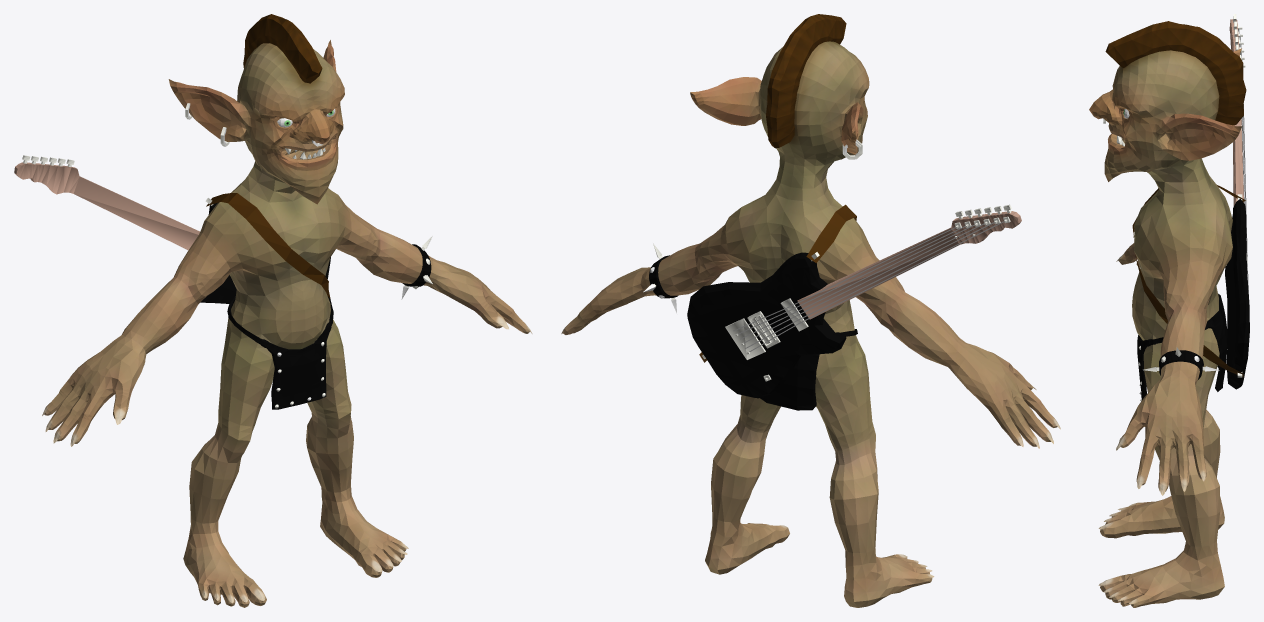
The model's file is goblin_flat.fbx.
3 renders of one model, left to right at view 1: azimuth 30°, elevation 25°; view 2: azimuth 150°, elevation 25°; view 3: azimuth 270°, elevation 25°, orthographic. The views are drawn at different scales.
Parts seen in each view (by area): view 1: goblin; view 2: goblin; view 3: goblin.
Part boxes in pixels (x1,y1,x2,y2): goblin: (14, 14, 532, 607); goblin: (561, 14, 1060, 607); goblin: (1089, 14, 1249, 607).
Size of the model in its own units: 191 by 211 by 56.45.
